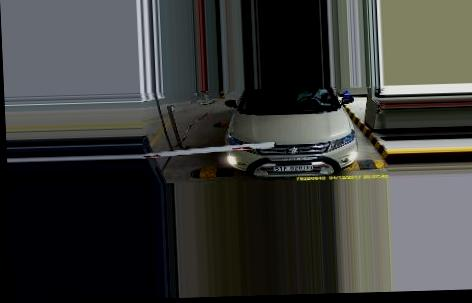License_Plate: (272, 161, 313, 174)
